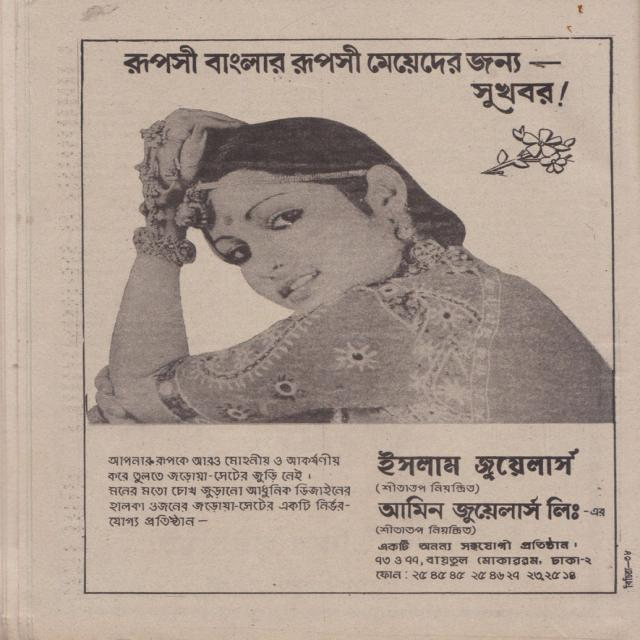advertisement: (79, 38, 616, 594)
page number: (622, 549, 634, 561)
text: (617, 565, 640, 593)
